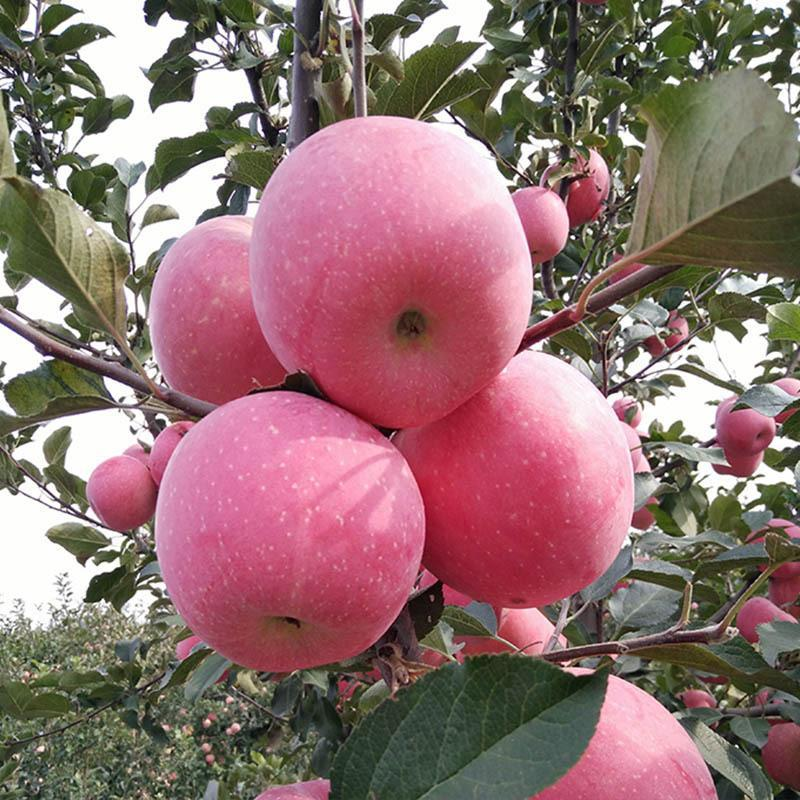apple: (111, 107, 675, 655), (132, 291, 532, 698), (149, 417, 432, 693), (397, 352, 639, 605), (145, 215, 278, 409), (85, 408, 179, 534), (86, 450, 157, 531)
